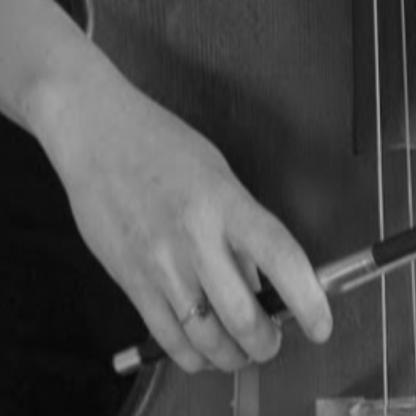good: (89, 136, 342, 385)
